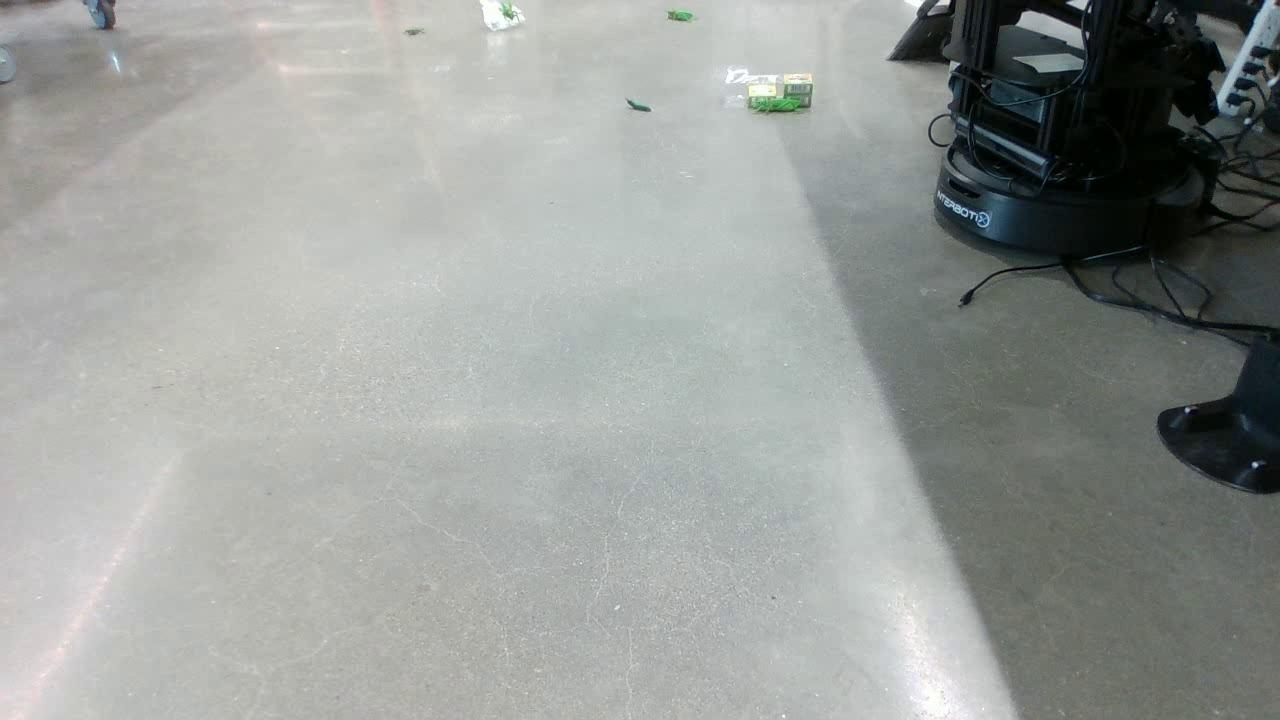grasshopper: (751, 96, 802, 114), (497, 1, 521, 24), (664, 8, 694, 25)
